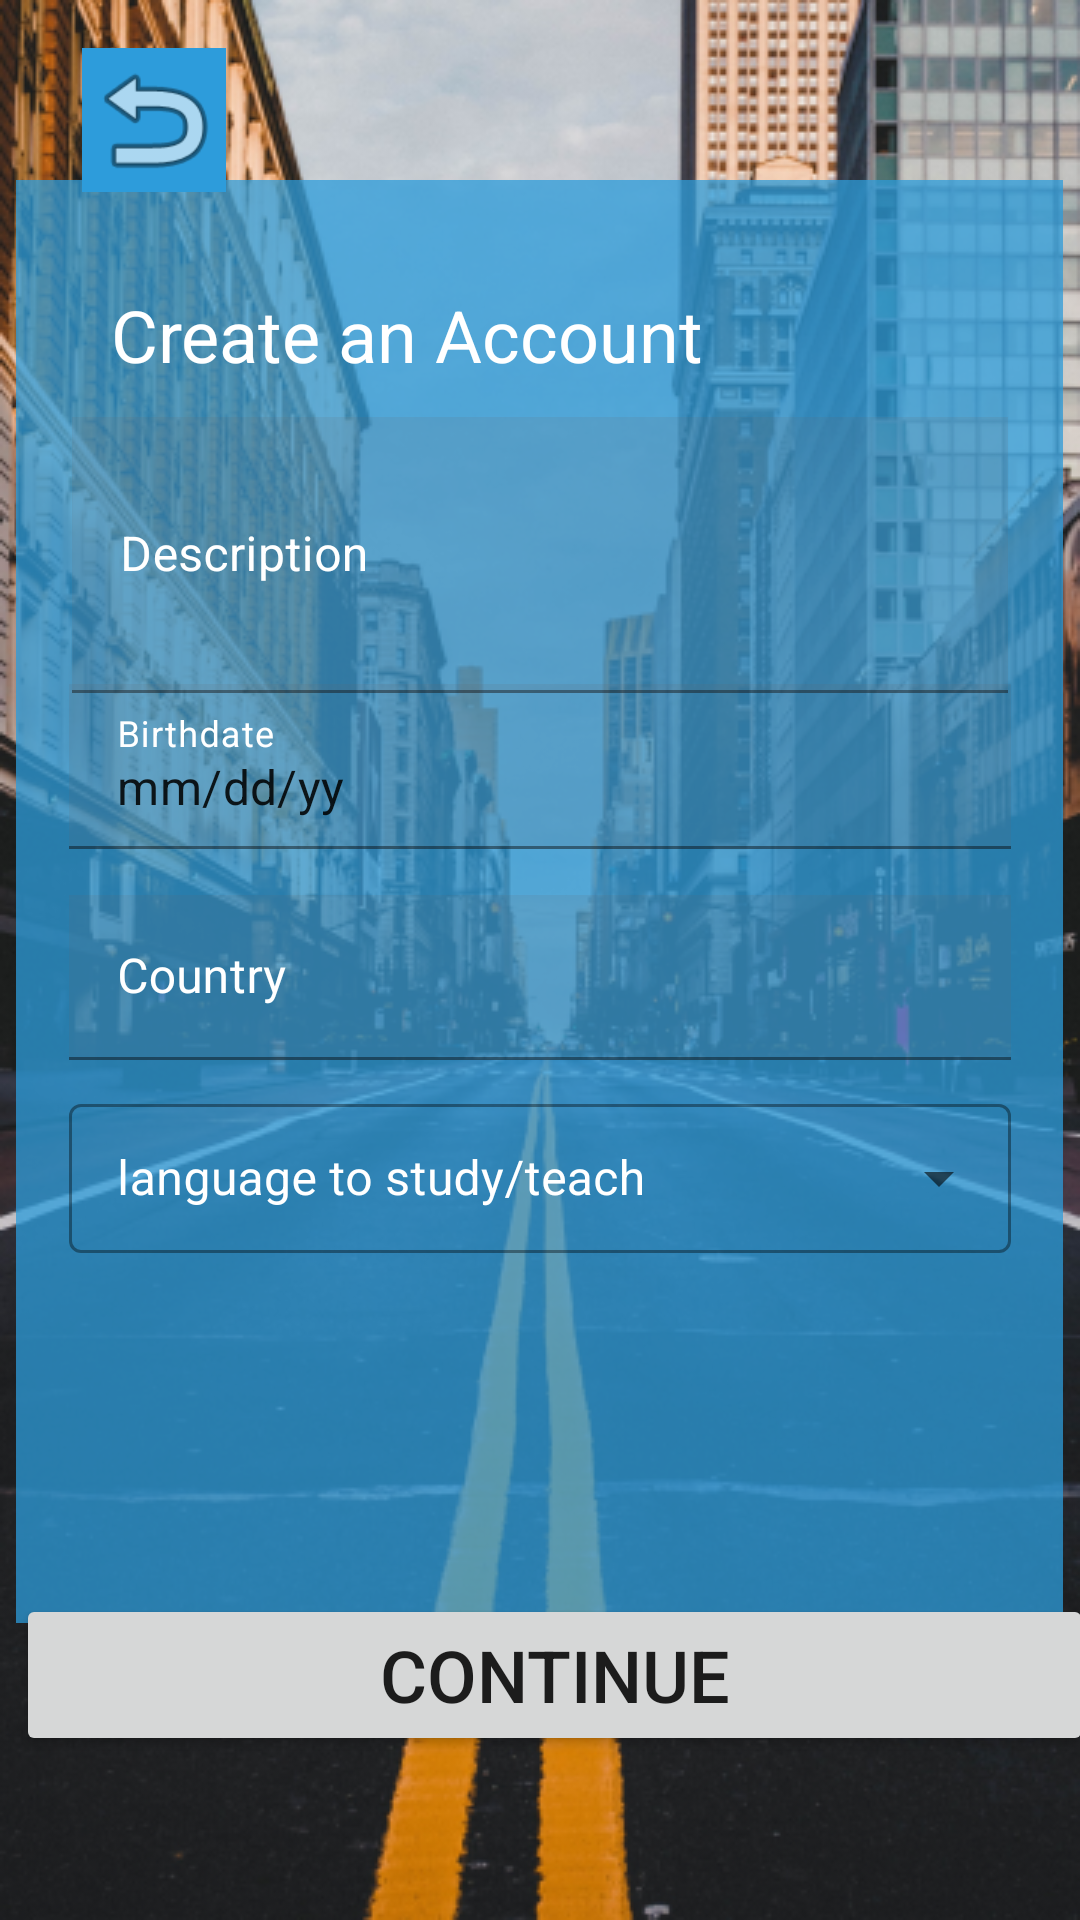

Point at icon controls on the screen. Image size 1080*1920, points as [x,y].
Return to: [154,120]
